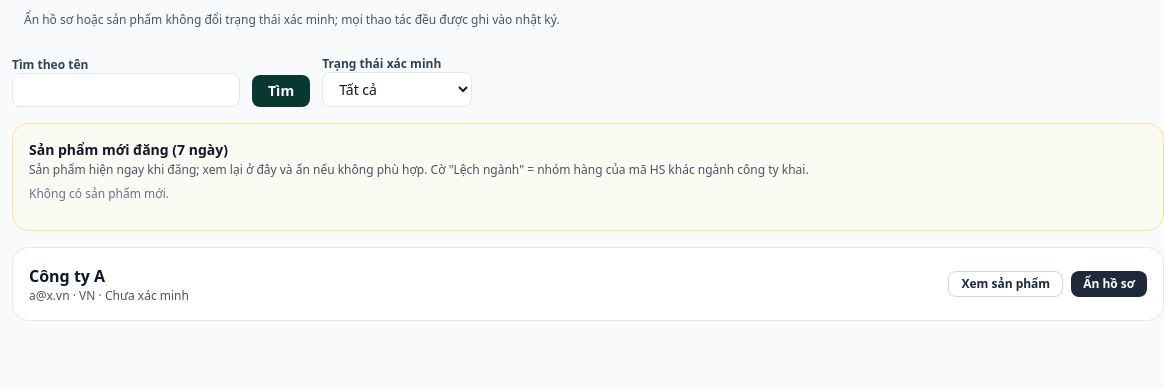
Test: Kiểm duyệt hồ sơ và sản phẩm (I4) › sản phẩm đã ẩn có nút Hiện sản phẩm
Click the button "Xem sản phẩm".
click(1006, 284)  # box [948, 271, 1063, 297]
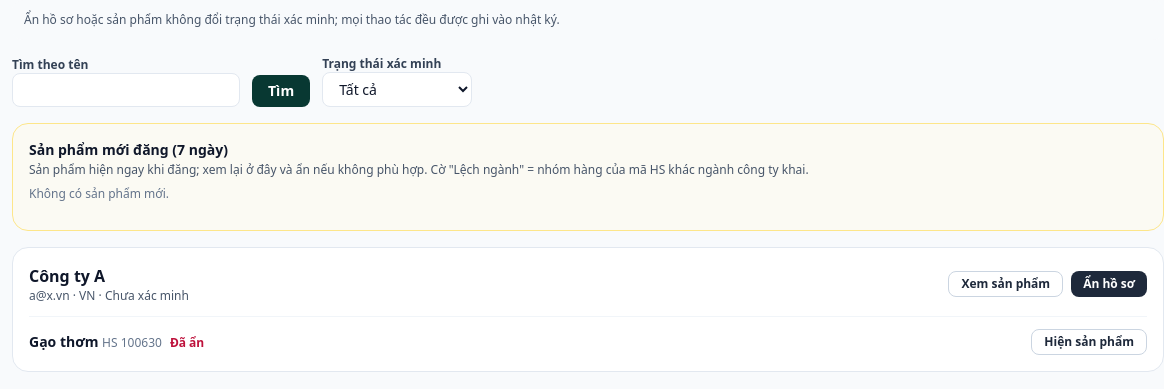
expect the text "Gạo thơm" is shown: met, box [29, 332, 98, 351]
expect the button "Hiện sản phẩm" is shown: met, box [1031, 329, 1147, 355]
